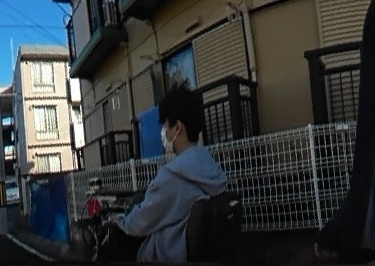person: (128, 86, 231, 260)
